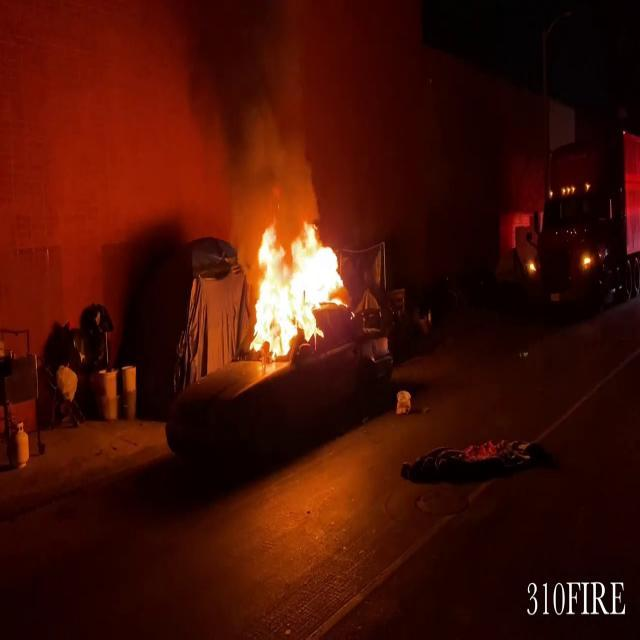Fire: (241, 212, 357, 360)
Smoke: (0, 0, 313, 245)
